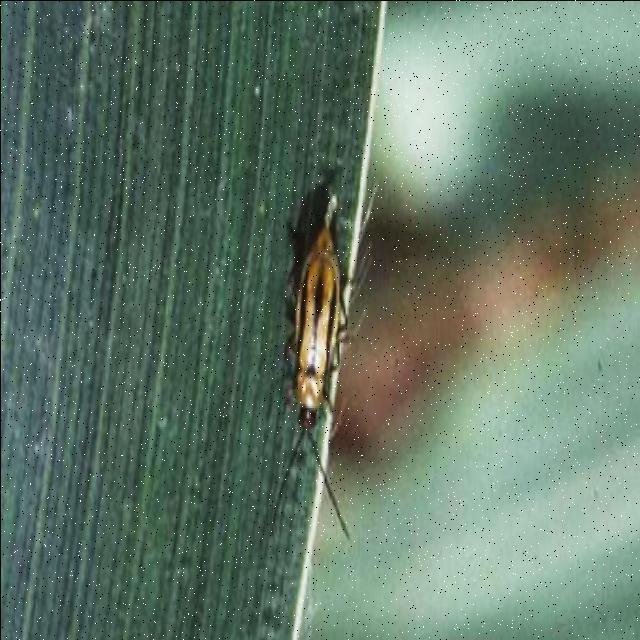trips: (272, 195, 351, 542)
